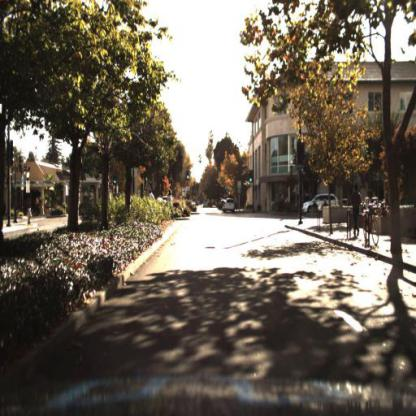car: (300, 192, 341, 216), (301, 195, 341, 215), (223, 196, 238, 221), (225, 200, 236, 215)
pedestrian: (351, 183, 362, 237), (351, 181, 361, 236), (167, 191, 176, 225), (170, 190, 178, 224), (142, 187, 157, 203)
trafficLight-Green: (249, 168, 257, 183), (112, 176, 119, 192), (248, 169, 254, 186), (185, 170, 192, 184)
trafficLight-GreenLeft: (185, 167, 191, 183)
